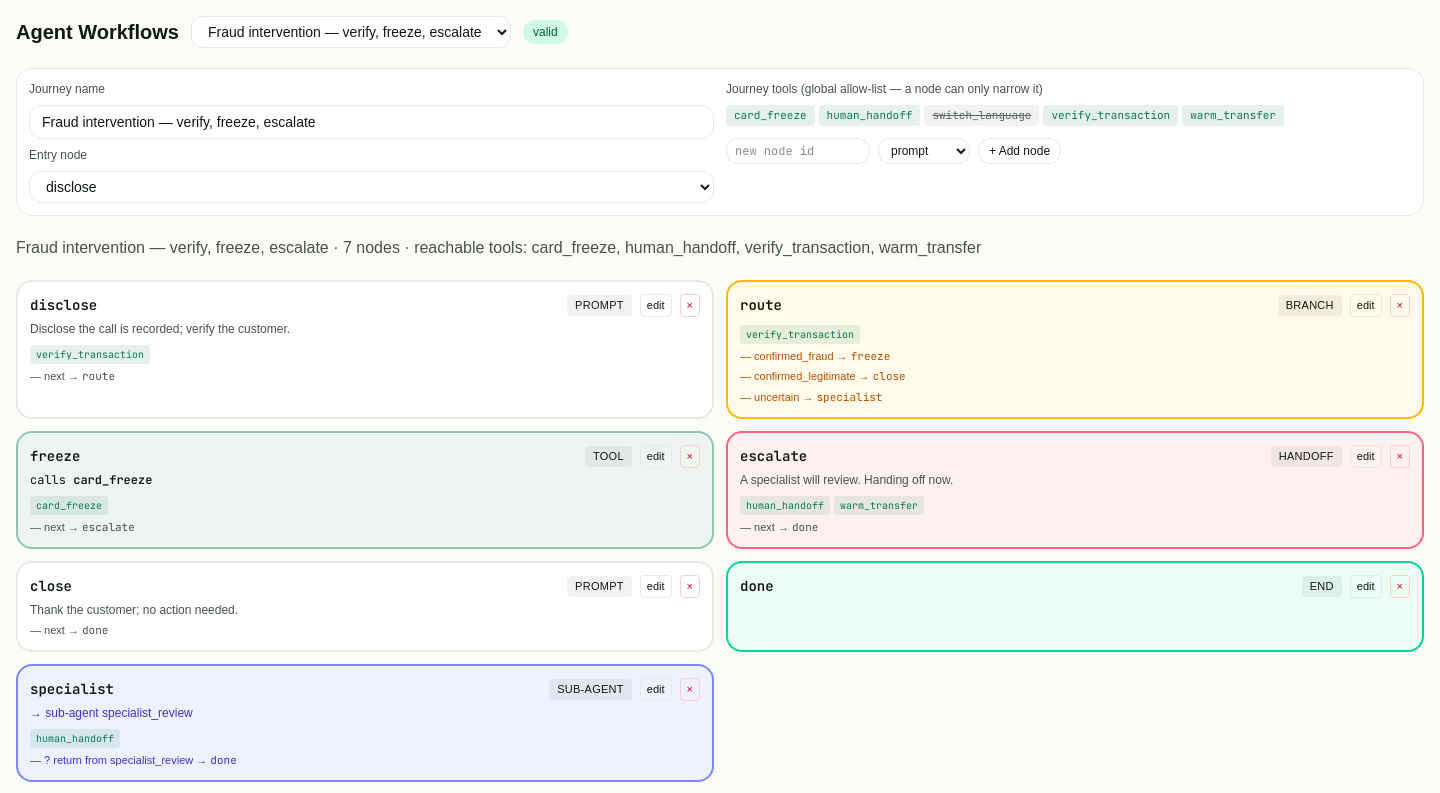
Test: WorkflowGraph › opens the node editor with per-node scope toggles
The width and height of the screenshot is (1440, 793).
Step 1. Click the 1st button "edit" → (656, 305), box [640, 294, 672, 316]
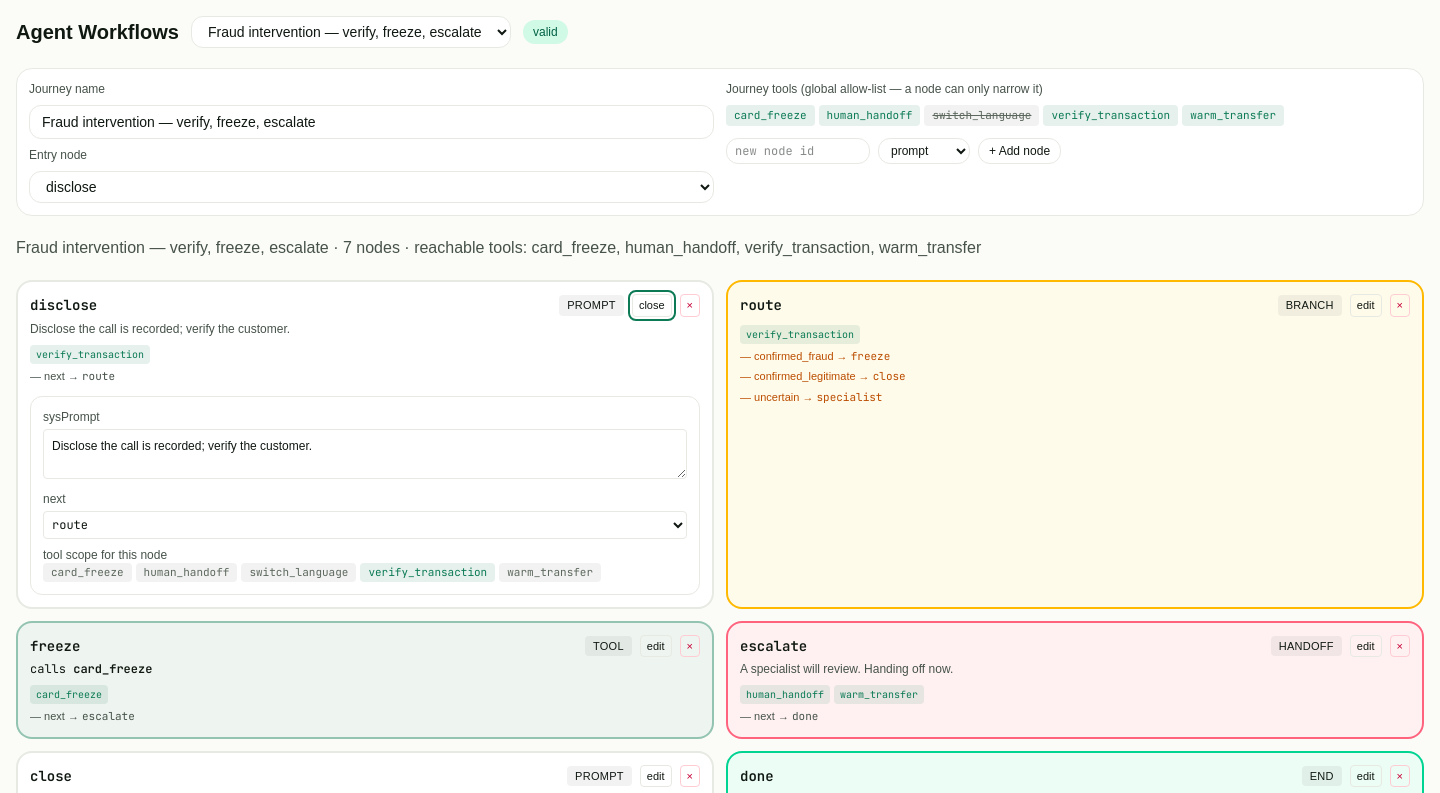
Expected: the text with test id "workflow-global-tools" is shown, [726, 82, 1043, 96]
Result: the text "tool scope for this node" is shown at [43, 548, 167, 562]
